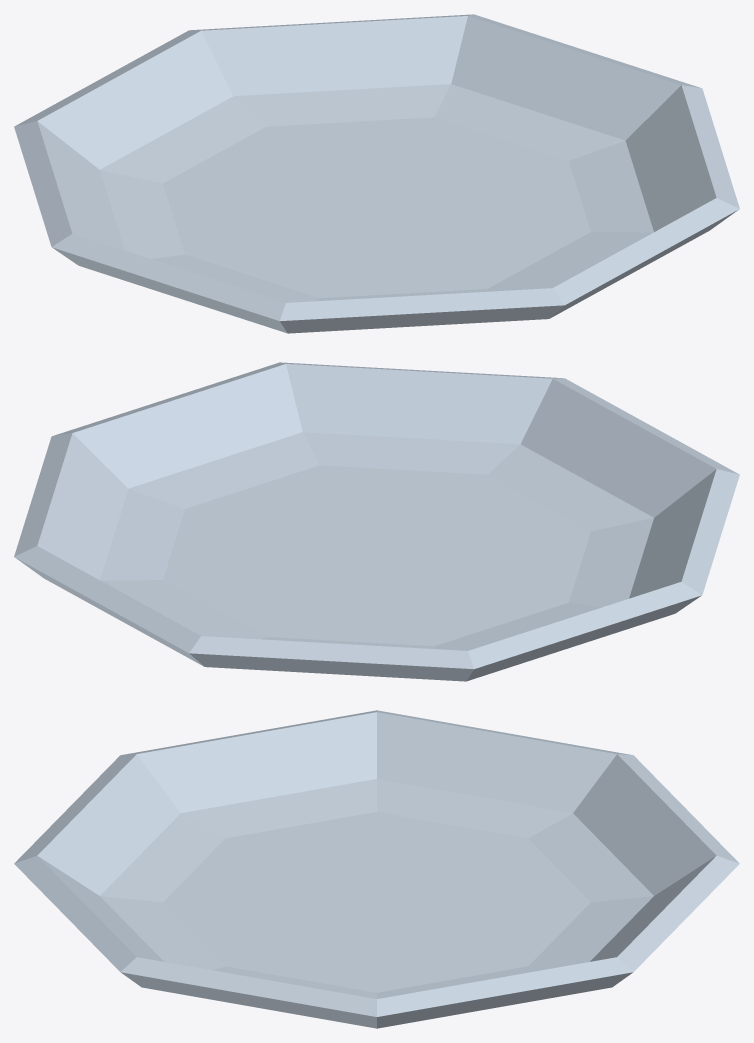
Rendered from assiette_clean.fbx.
The picture shows the model from 3 angles, top to bottom: view 1: azimuth 30°, elevation 25°; view 2: azimuth 150°, elevation 25°; view 3: azimuth 270°, elevation 25°; orthographic projection. The views are drawn at different scales.
Parts seen in each view (by area): view 1: Assiette; view 2: Assiette; view 3: Assiette.
Boxes of the visible parts, x1,y1,x2,y2 form: Assiette: (14, 14, 739, 333); Assiette: (14, 362, 739, 681); Assiette: (14, 710, 739, 1028).
Size of the model in its own units: 107 by 8.53 by 107.
